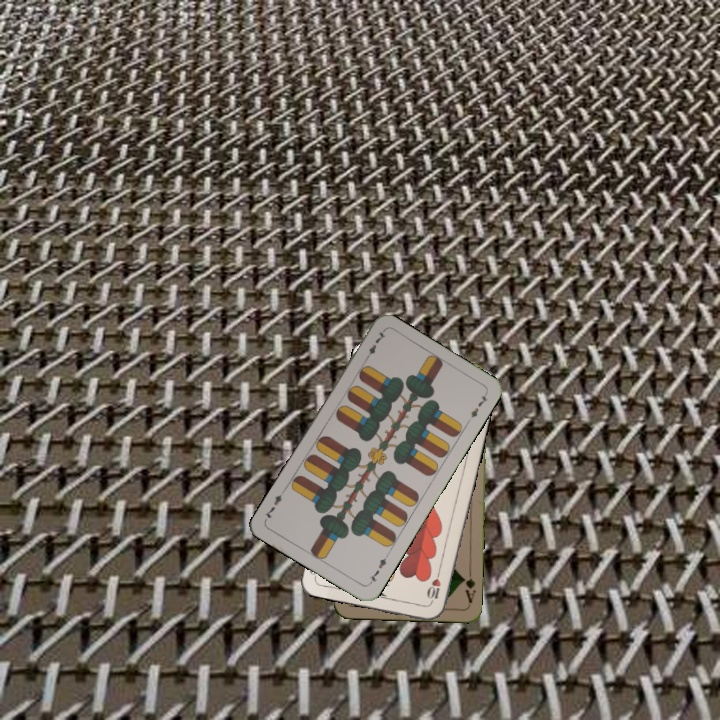E7: (361, 327, 389, 364), (365, 550, 391, 587)
GA: (458, 566, 478, 605)
H10: (424, 566, 443, 606)
